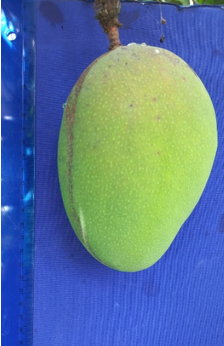Mango-Antracnosis: (57, 43, 217, 271)
Mango-area-afectada: (62, 63, 92, 198)
Mango-sano: (58, 44, 216, 271)
